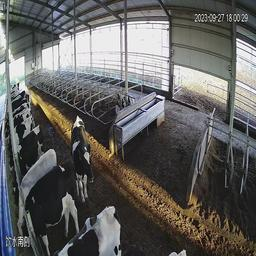cow: (20, 159, 82, 238), (56, 201, 127, 256), (68, 110, 96, 200), (16, 139, 65, 190), (3, 128, 49, 164), (6, 112, 39, 141), (6, 98, 30, 122), (6, 85, 31, 102), (115, 88, 131, 109)
